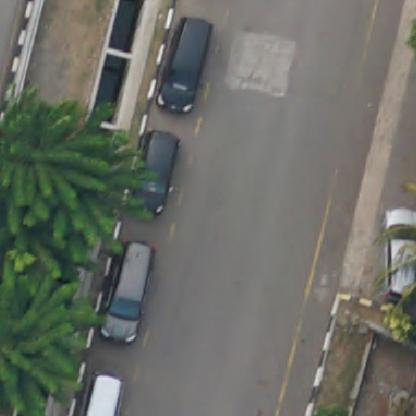car: (99, 241, 155, 346), (155, 16, 210, 112), (127, 128, 180, 216), (381, 207, 415, 308), (76, 368, 125, 415)
